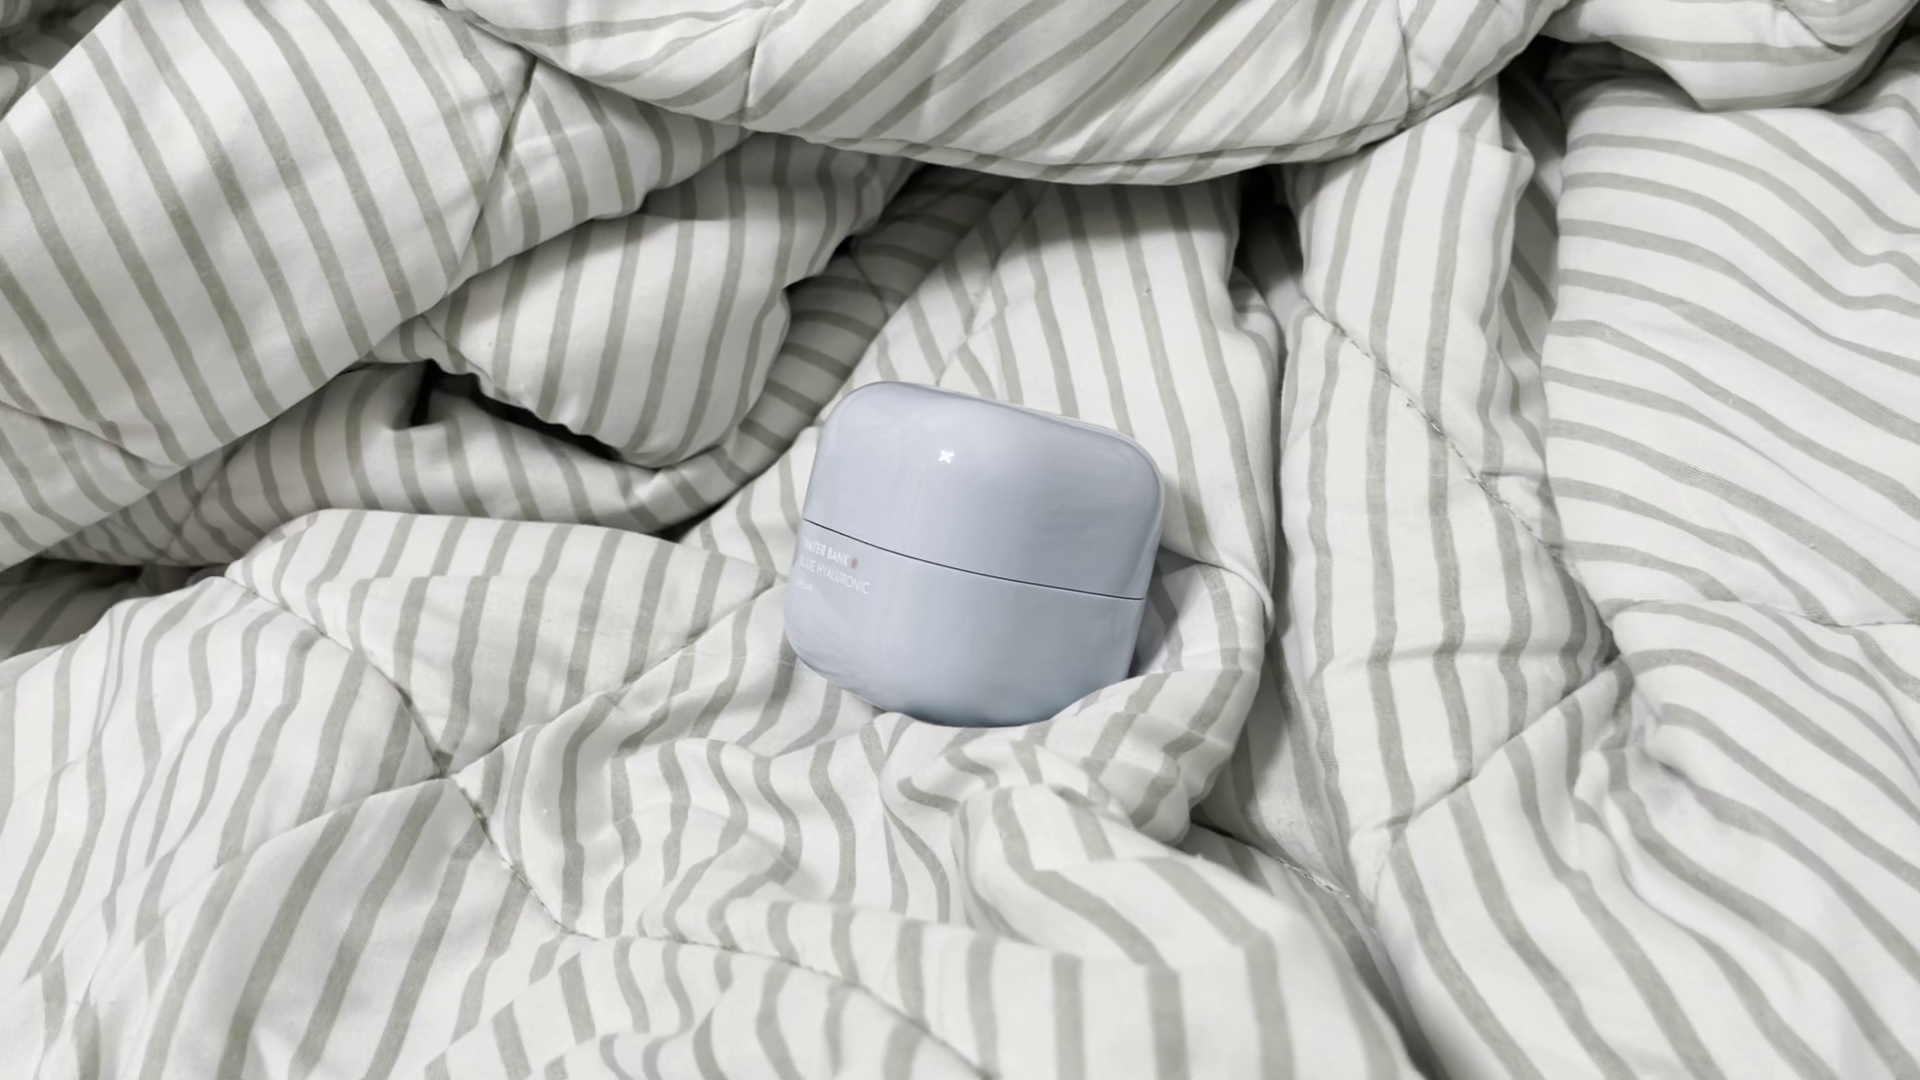cream: (783, 378, 1159, 729)
